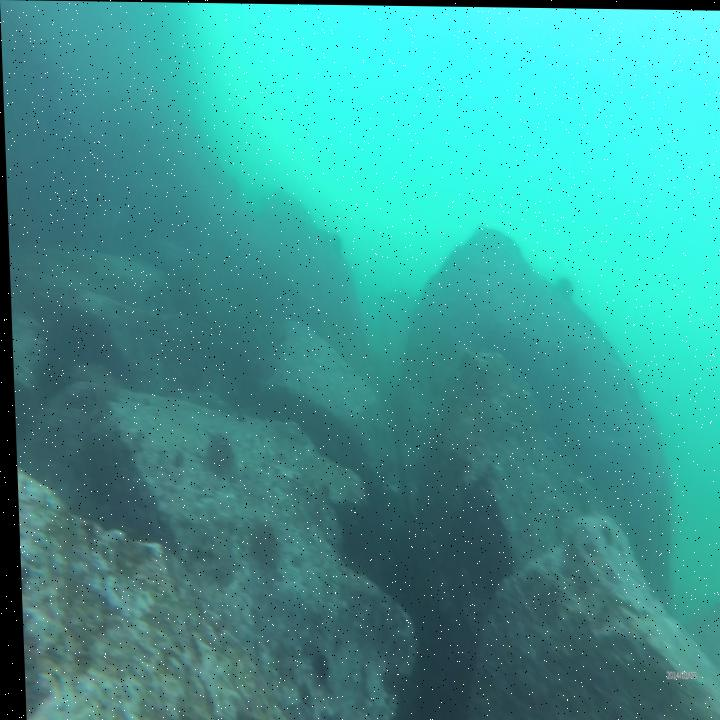echinus: (198, 425, 236, 498), (243, 512, 279, 577), (302, 636, 331, 696)
